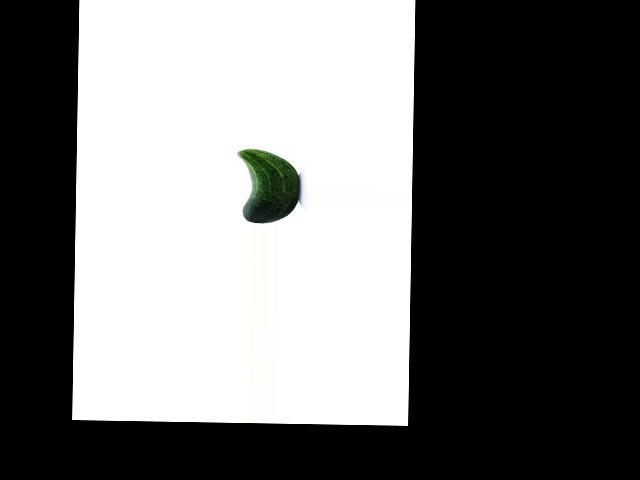cucumber: (236, 148, 300, 223)
